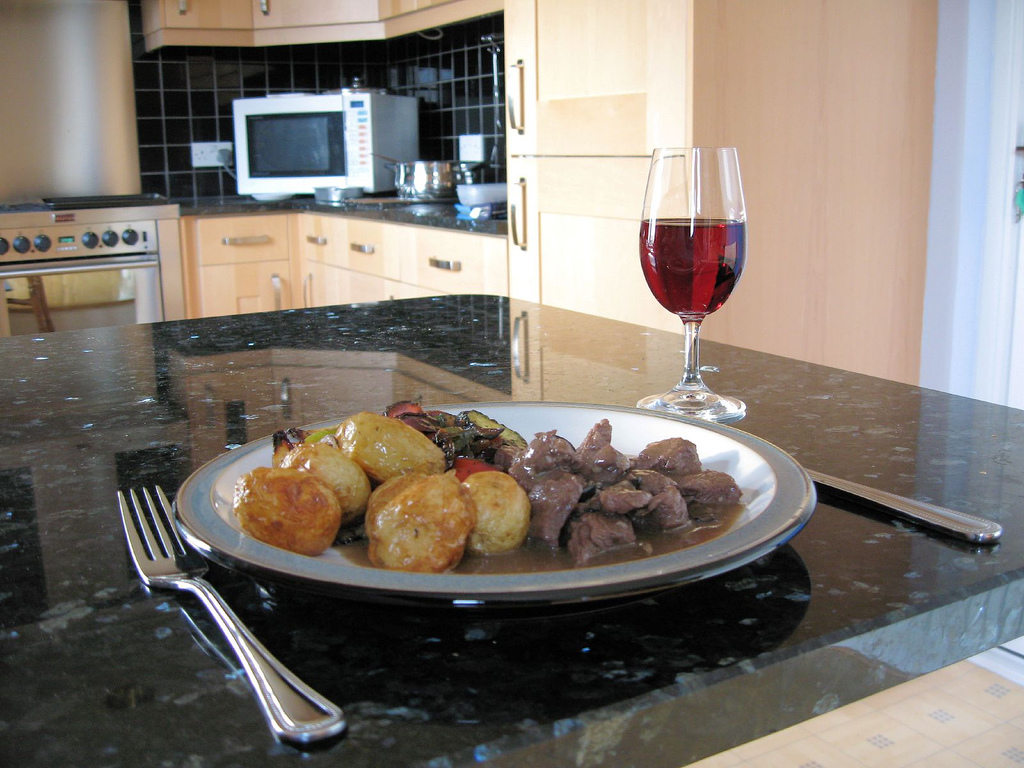boiled potatoes: (244, 421, 534, 566), (284, 451, 382, 525), (457, 466, 535, 558)
